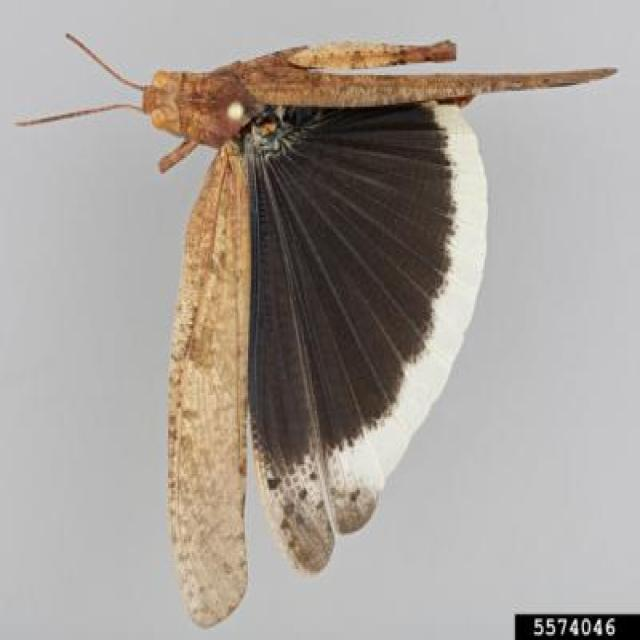antennae: (63, 32, 147, 90), (14, 104, 144, 130)
body: (130, 64, 460, 138)
insect: (14, 28, 624, 640)
legs: (248, 40, 464, 70), (157, 136, 200, 175)
wings: (168, 106, 491, 623), (234, 67, 620, 91)
